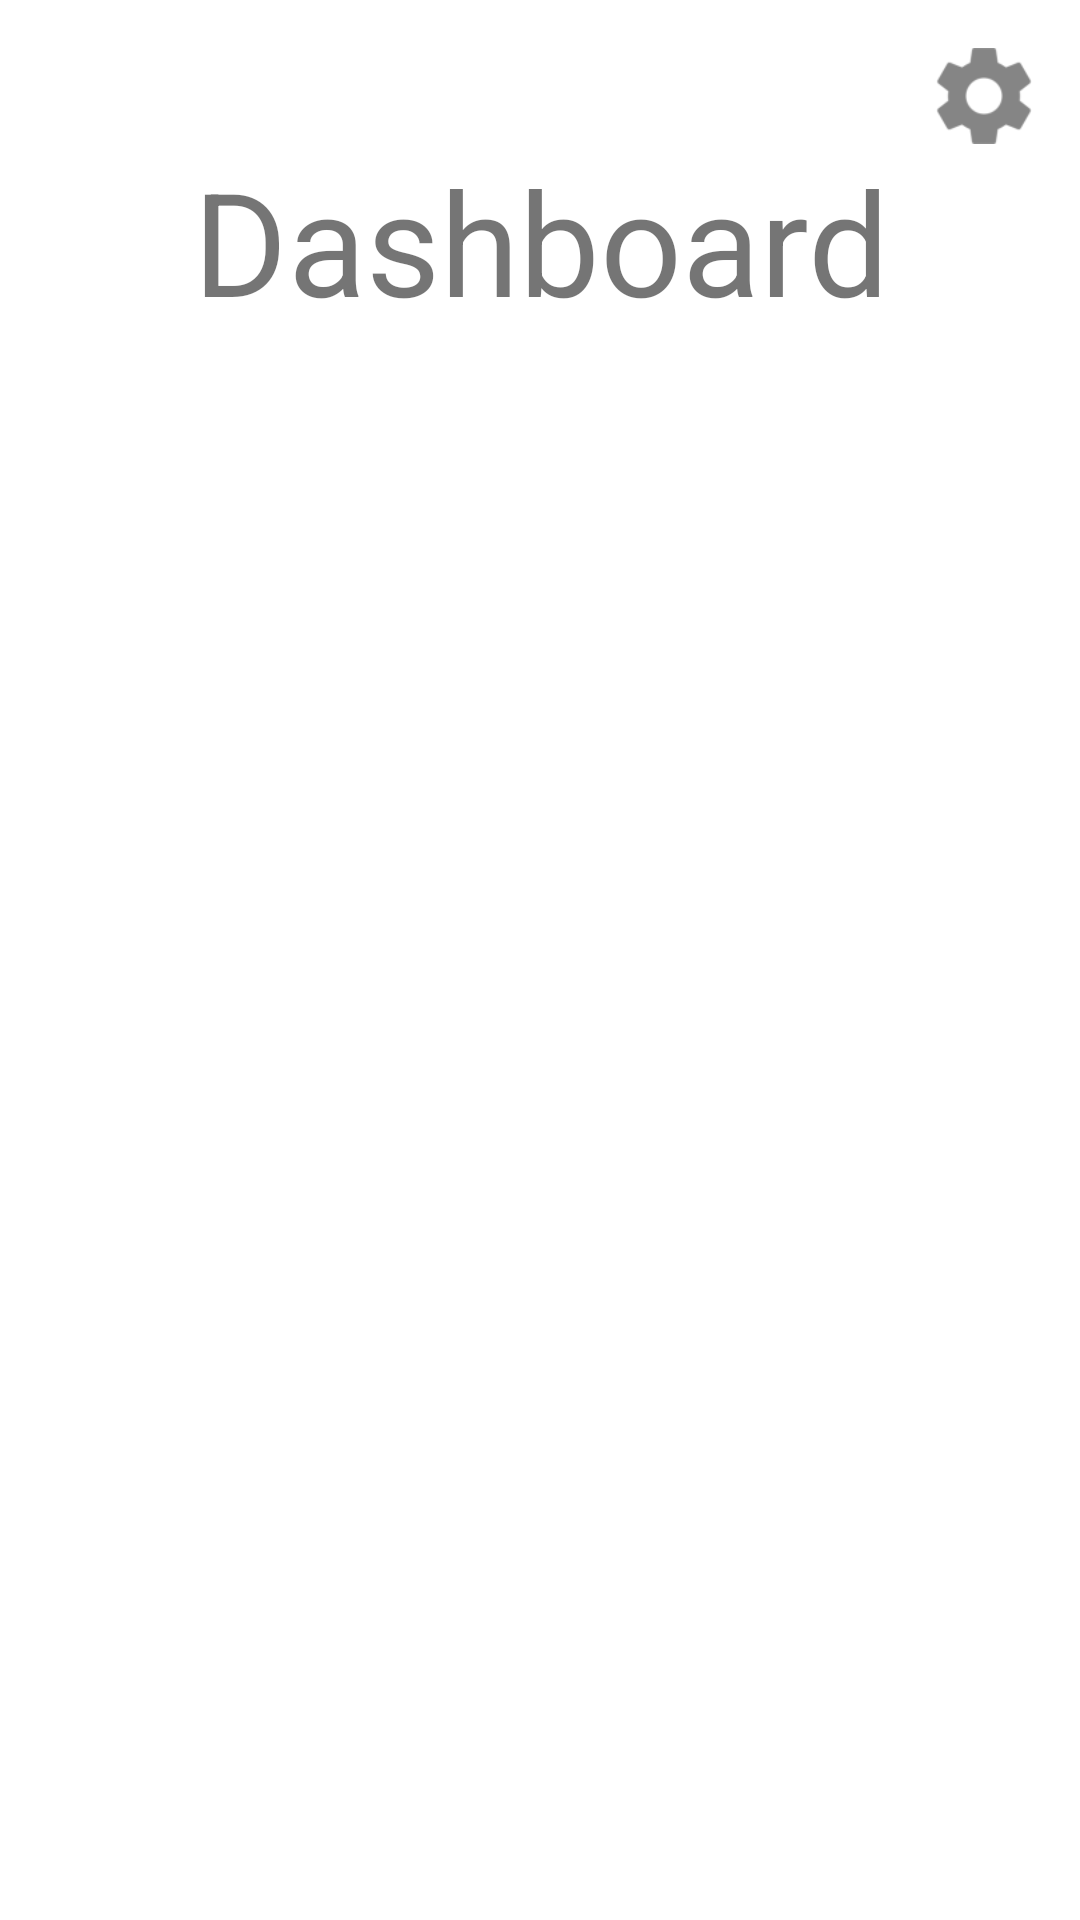

Icons on this 1080x1920 Android screen, each with the point to tap as (x=x, y=y):
Settings button: (x=984, y=96)
